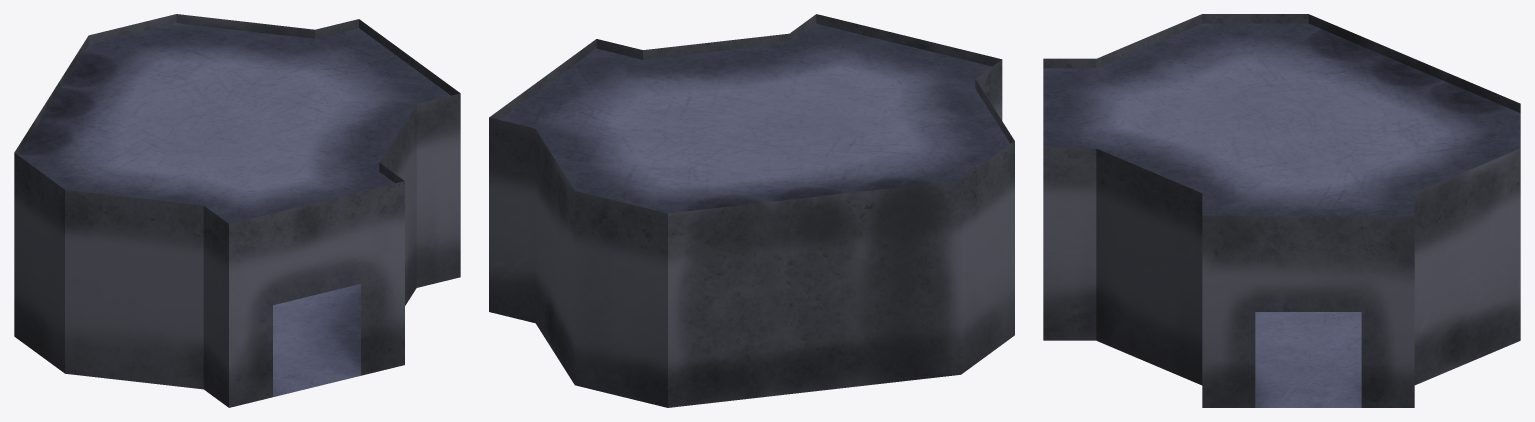
File: lhall0.glb
The picture shows the model from 3 angles, left to right: view 1: azimuth 30°, elevation 25°; view 2: azimuth 150°, elevation 25°; view 3: azimuth 270°, elevation 25°; orthographic projection. The views are drawn at different scales.
Visible parts, largest first — view 1: lhall0; view 2: lhall0; view 3: lhall0.
Part boxes in pixels (x1,y1,x2,y2): lhall0: (14,14,460,407); lhall0: (489,14,1014,407); lhall0: (1043,14,1520,407).
Bounding box in the file's own units: 45 × 20 × 45.
Materials: 1 (1 with a texture image).
